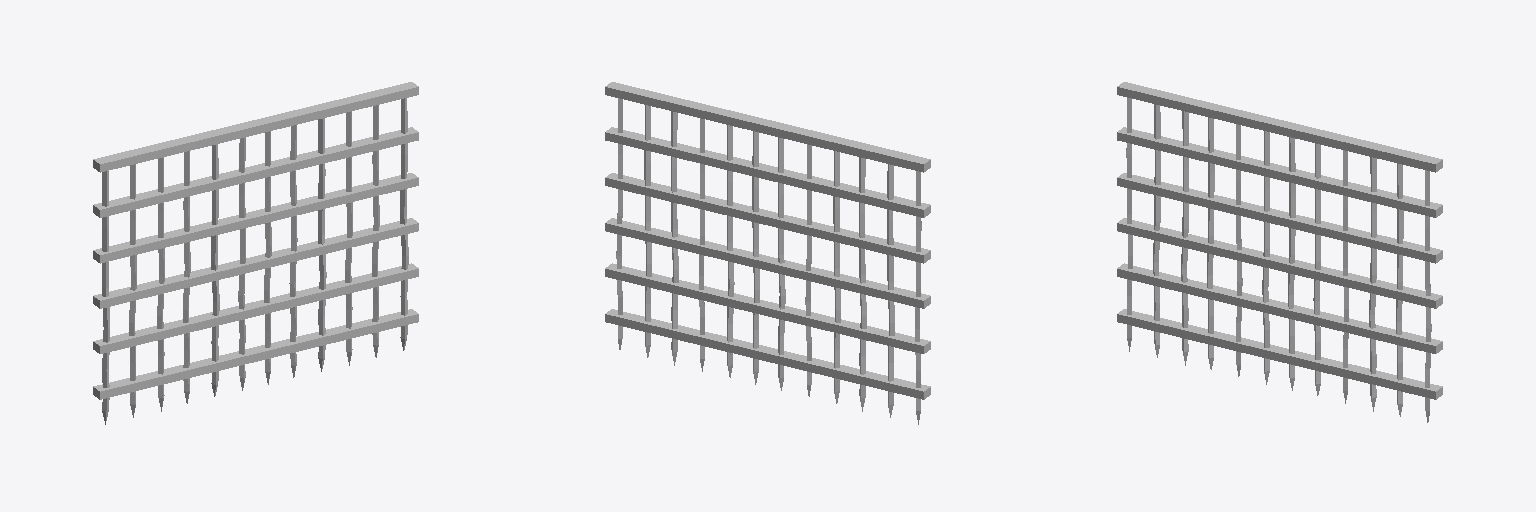
The model's file is Gate.obj.
3 renders of one model, left to right at view 1: azimuth 30°, elevation 25°; view 2: azimuth 150°, elevation 25°; view 3: azimuth 330°, elevation 25°, orthographic.
Visible parts, largest first — view 1: tunnel.033_Mesh.6508; view 2: tunnel.033_Mesh.6508; view 3: tunnel.033_Mesh.6508.
Boxes of the visible parts, x1=… form: tunnel.033_Mesh.6508: x1=93, y1=82, x2=418, y2=424; tunnel.033_Mesh.6508: x1=605, y1=82, x2=930, y2=424; tunnel.033_Mesh.6508: x1=1117, y1=82, x2=1442, y2=422.
Bounding box in the file's own units: 2.94 × 2.34 × 0.1122.